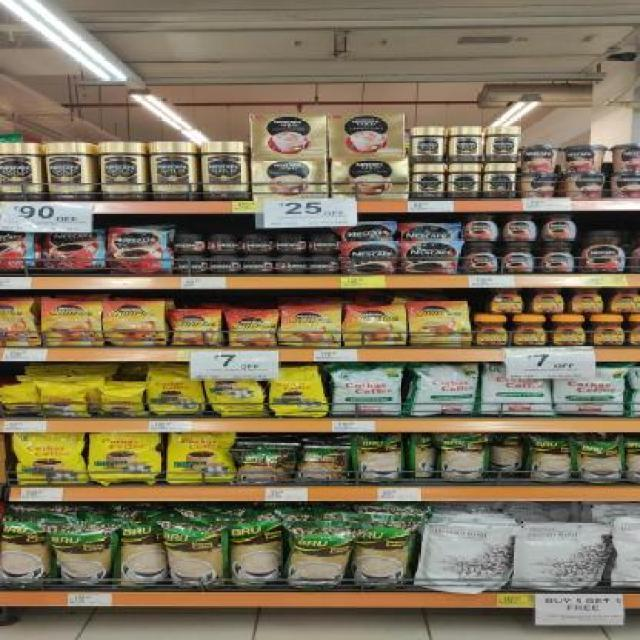Coffee: (42, 143, 98, 199), (102, 300, 166, 347), (42, 299, 104, 347), (147, 142, 198, 200), (109, 229, 171, 276), (198, 142, 248, 200), (98, 143, 146, 199), (408, 303, 470, 346), (0, 142, 43, 201), (44, 232, 103, 274), (279, 307, 339, 348), (345, 307, 407, 346), (580, 232, 626, 274), (400, 241, 457, 274), (171, 310, 221, 346), (344, 242, 400, 274), (0, 299, 38, 346), (228, 312, 278, 346), (0, 231, 34, 275), (461, 242, 499, 274), (412, 127, 445, 163), (501, 241, 538, 273), (539, 241, 576, 273), (589, 318, 628, 346), (487, 127, 519, 161), (448, 165, 480, 198), (474, 316, 507, 348), (486, 164, 517, 198), (452, 127, 483, 161), (463, 213, 499, 241), (501, 212, 537, 240), (541, 213, 577, 241), (552, 317, 588, 345), (515, 315, 548, 345), (415, 164, 444, 198), (530, 288, 564, 314), (569, 288, 603, 314), (491, 289, 524, 315), (606, 290, 640, 313), (306, 233, 339, 253), (274, 255, 308, 274), (207, 234, 240, 252), (241, 234, 272, 252), (177, 255, 206, 273), (311, 254, 339, 272), (176, 235, 205, 252), (210, 255, 239, 272), (243, 256, 272, 273), (278, 233, 305, 251)
